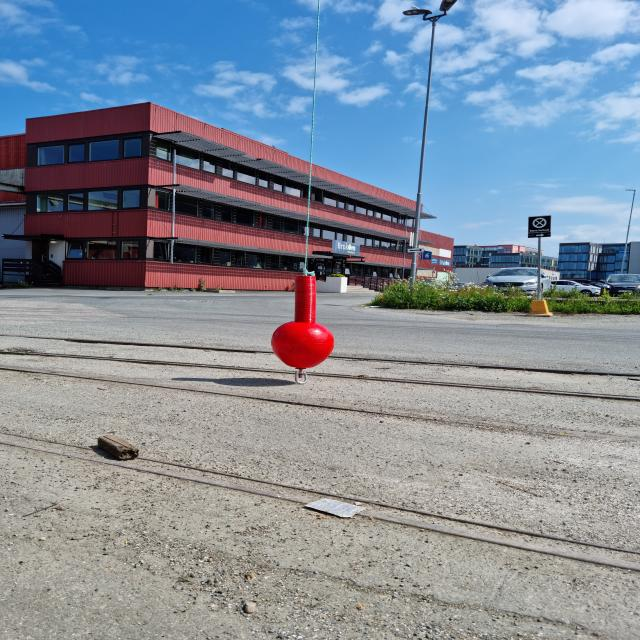red: (271, 277, 333, 368)
